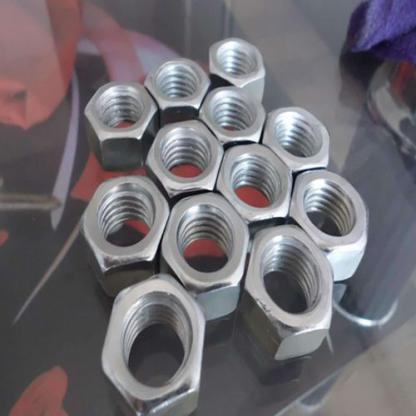FOD: (97, 270, 209, 415), (239, 222, 335, 362), (74, 175, 171, 301), (160, 192, 251, 322), (287, 168, 370, 286), (212, 143, 296, 236), (81, 78, 162, 172), (145, 117, 225, 201), (263, 106, 333, 174), (143, 57, 214, 124), (209, 35, 267, 107), (201, 86, 267, 146)
